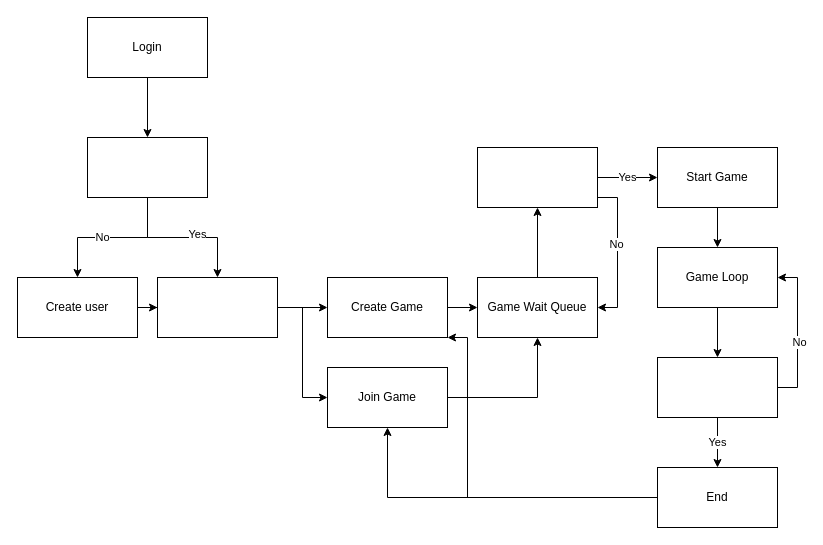
This 823x545 diagram has some shape labels left out. The shapes that lost their labels are listed below. From the top down, each one's centre as x and y in pixels, then its label:
At point 147,167: "User Exist".
At point 537,177: "Enought Players to Start Game".
At point 217,307: "Complete Login".
At point 717,387: "Game Completed".
